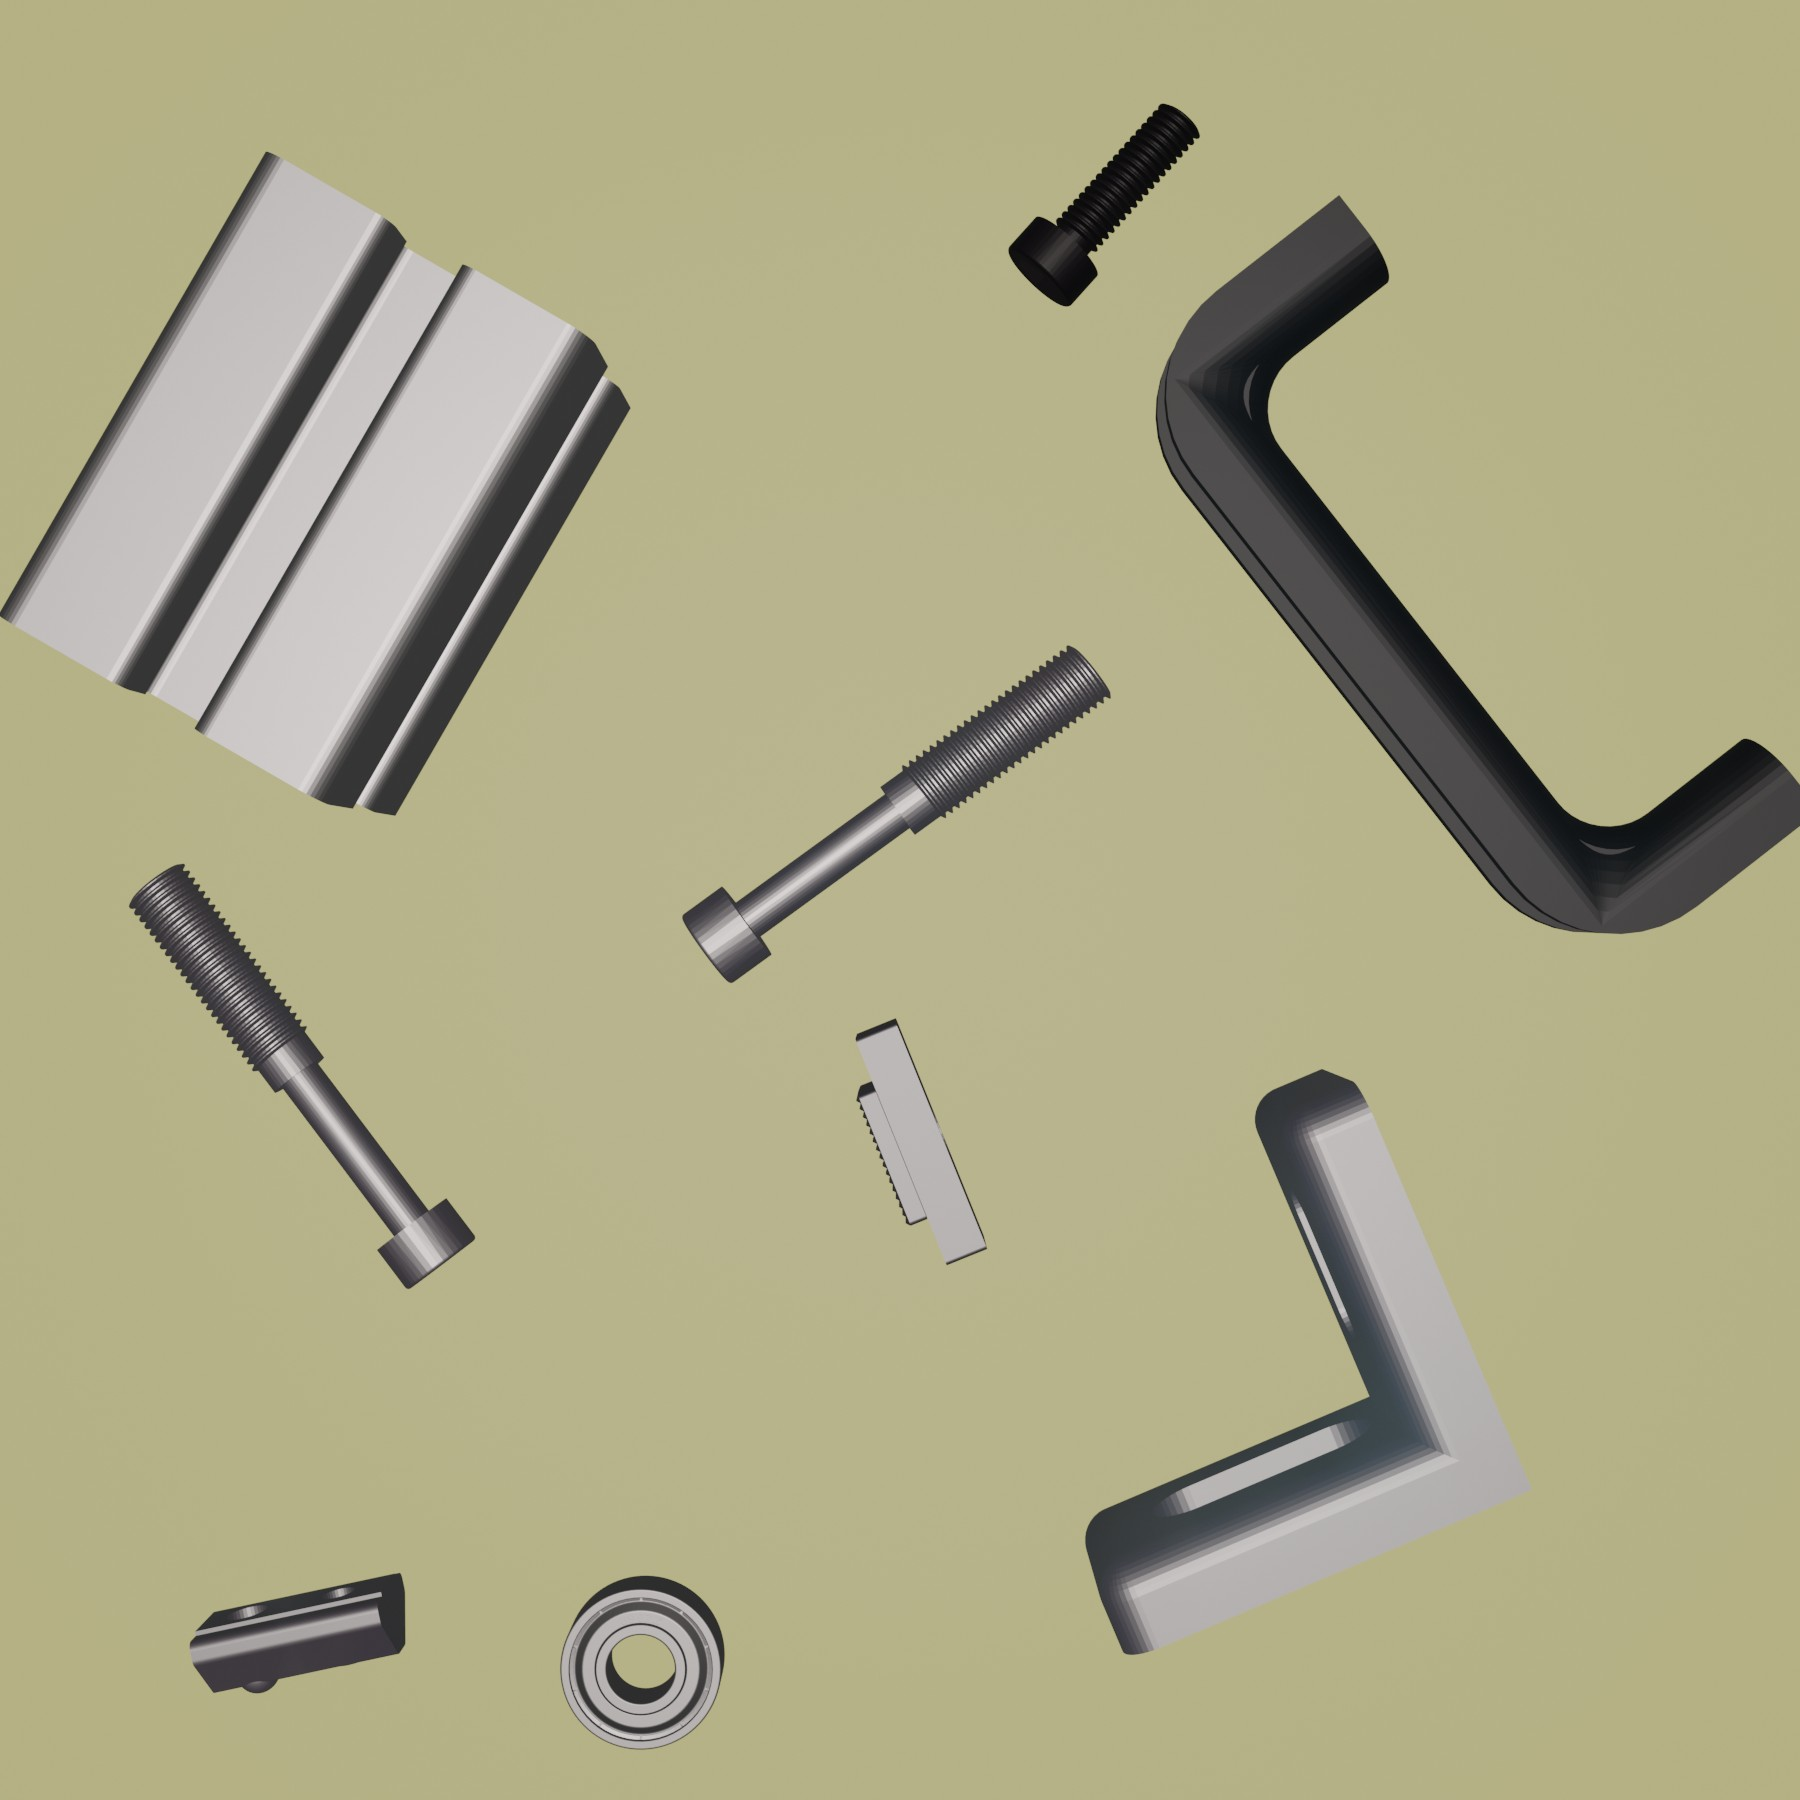Aluminium Extension: (2, 147, 631, 819)
Ball Bearing: (555, 1574, 729, 1752)
Multiwinkel: (1081, 1068, 1540, 1658)
Pull Handle: (1154, 191, 1800, 938)
Shoulder Socket Head Cap Screw: (127, 860, 476, 1292), (677, 641, 1114, 986)
Socket Head Cap Screw: (1005, 101, 1203, 308)
T Nut Square: (852, 1014, 991, 1268)
T Spring Nut: (186, 1568, 412, 1698)
